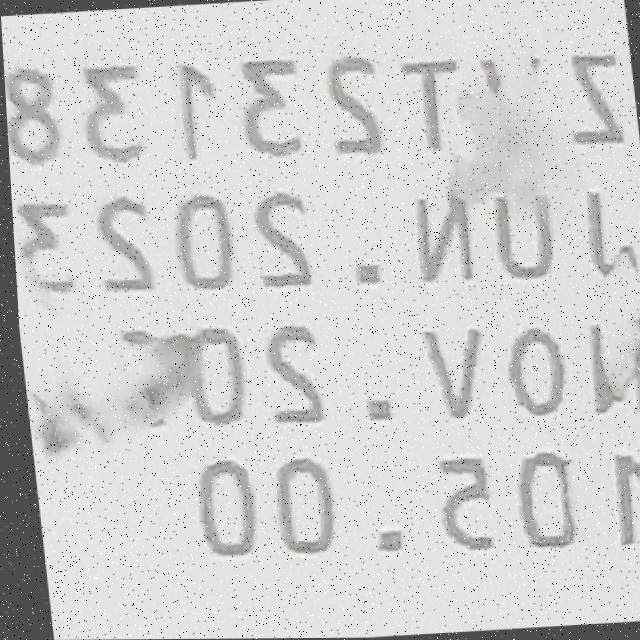sentence: (31, 322, 640, 455), (4, 39, 621, 165), (16, 178, 634, 303), (195, 449, 640, 559)
